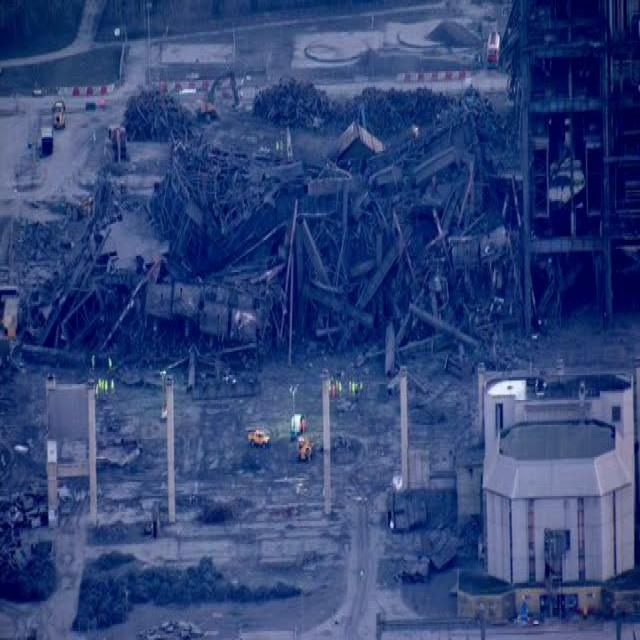collapsed_building: (95, 75, 507, 361)
